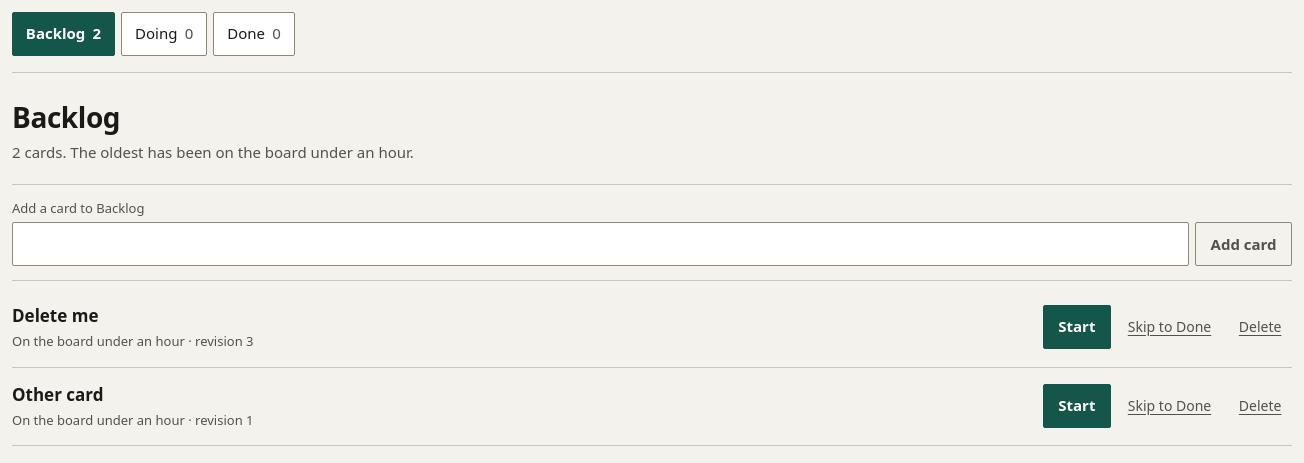
Test case: Board › deletes a confirmed card and removes it from the board
The width and height of the screenshot is (1304, 463).
Expected: the text "Delete me" is shown, [12,304,98,327]
Click the button named "Delete \"Delete me\"" at [1260, 327], box [1228,305,1292,349]
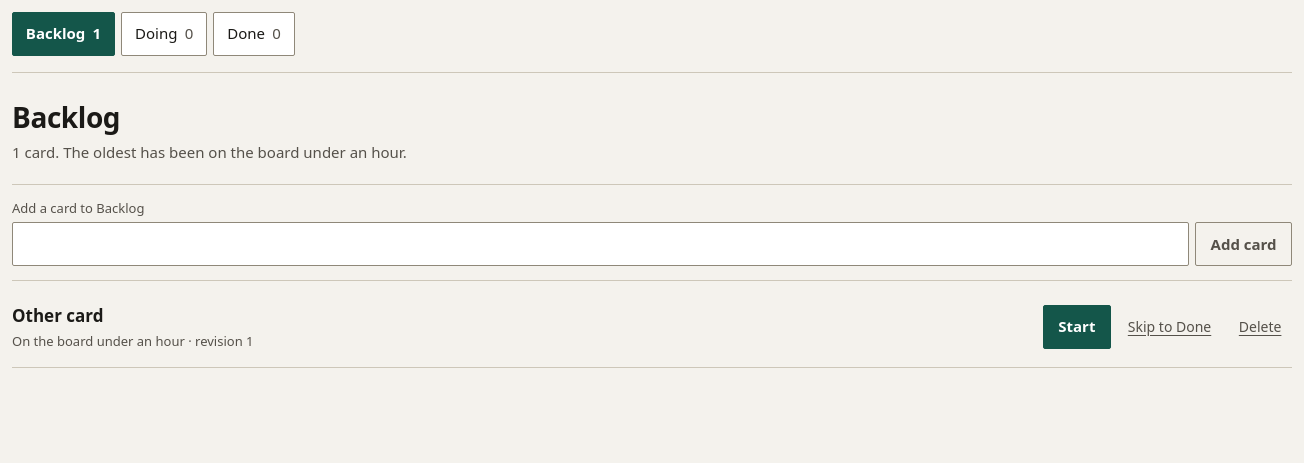
Expected: the text "Other card" is shown, [12,304,103,327]
Result: the text "Delete me" is gone
